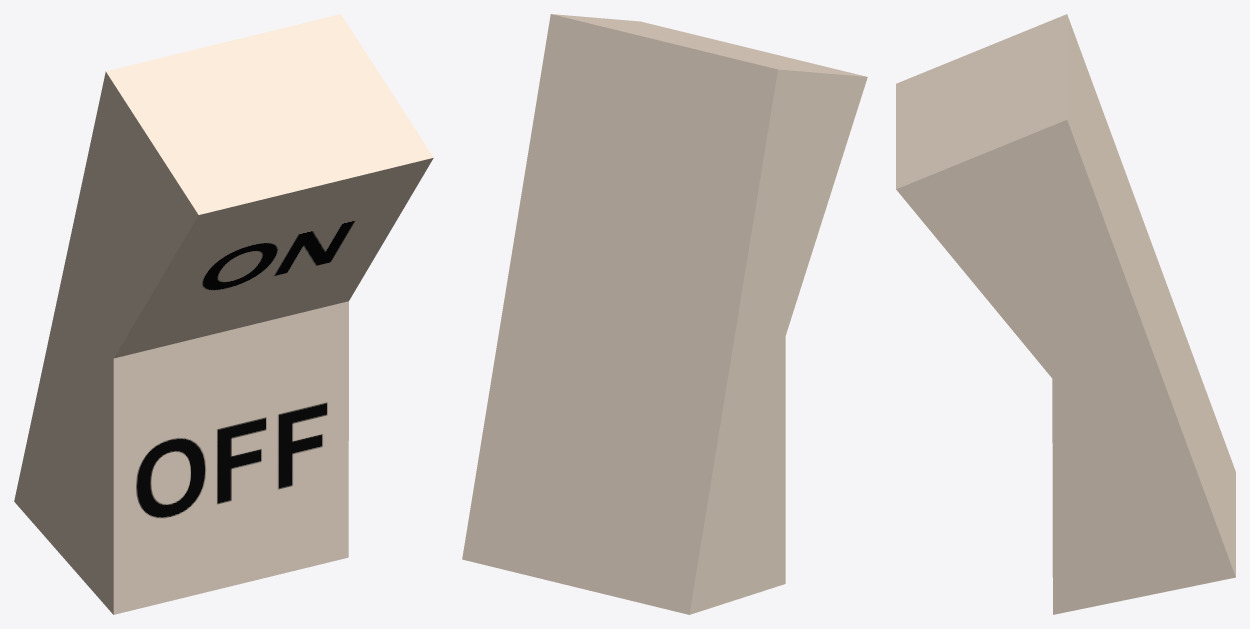
The model's file is Trieuse_switchBtn.glb.
3 renders of one model, left to right at view 1: azimuth 30°, elevation 25°; view 2: azimuth 150°, elevation 25°; view 3: azimuth 270°, elevation 25°, orthographic. The views are drawn at different scales.
Visible parts, largest first — view 1: Bouton 1; view 2: Bouton 1; view 3: Bouton 1.
Part boxes in pixels (x1,y1,x2,y2): Bouton 1: (14, 14, 433, 614); Bouton 1: (462, 14, 867, 614); Bouton 1: (896, 14, 1235, 614).
Size of the model in its own units: 0.0253 by 0.0553 by 0.0344.
Materials: 1 (1 with a texture image).
